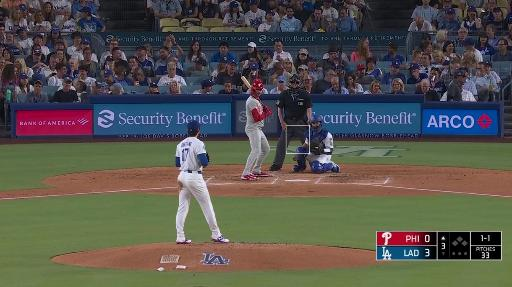pitcher: (175, 121, 230, 245)
